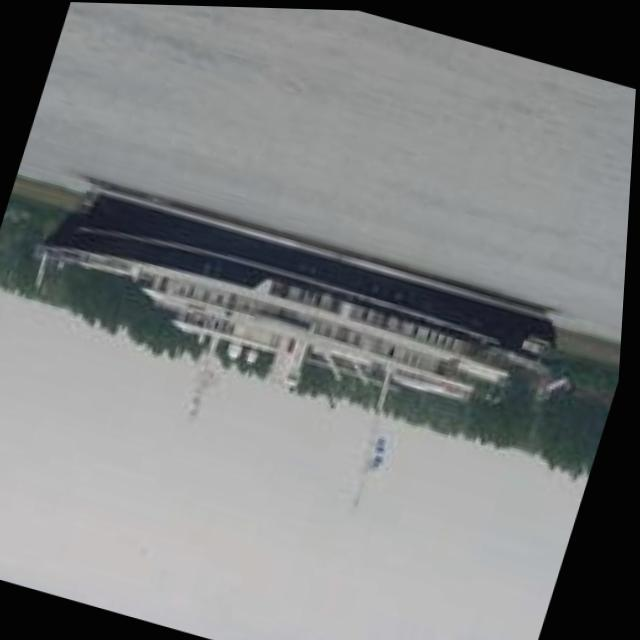ship2: (41, 182, 559, 509)
